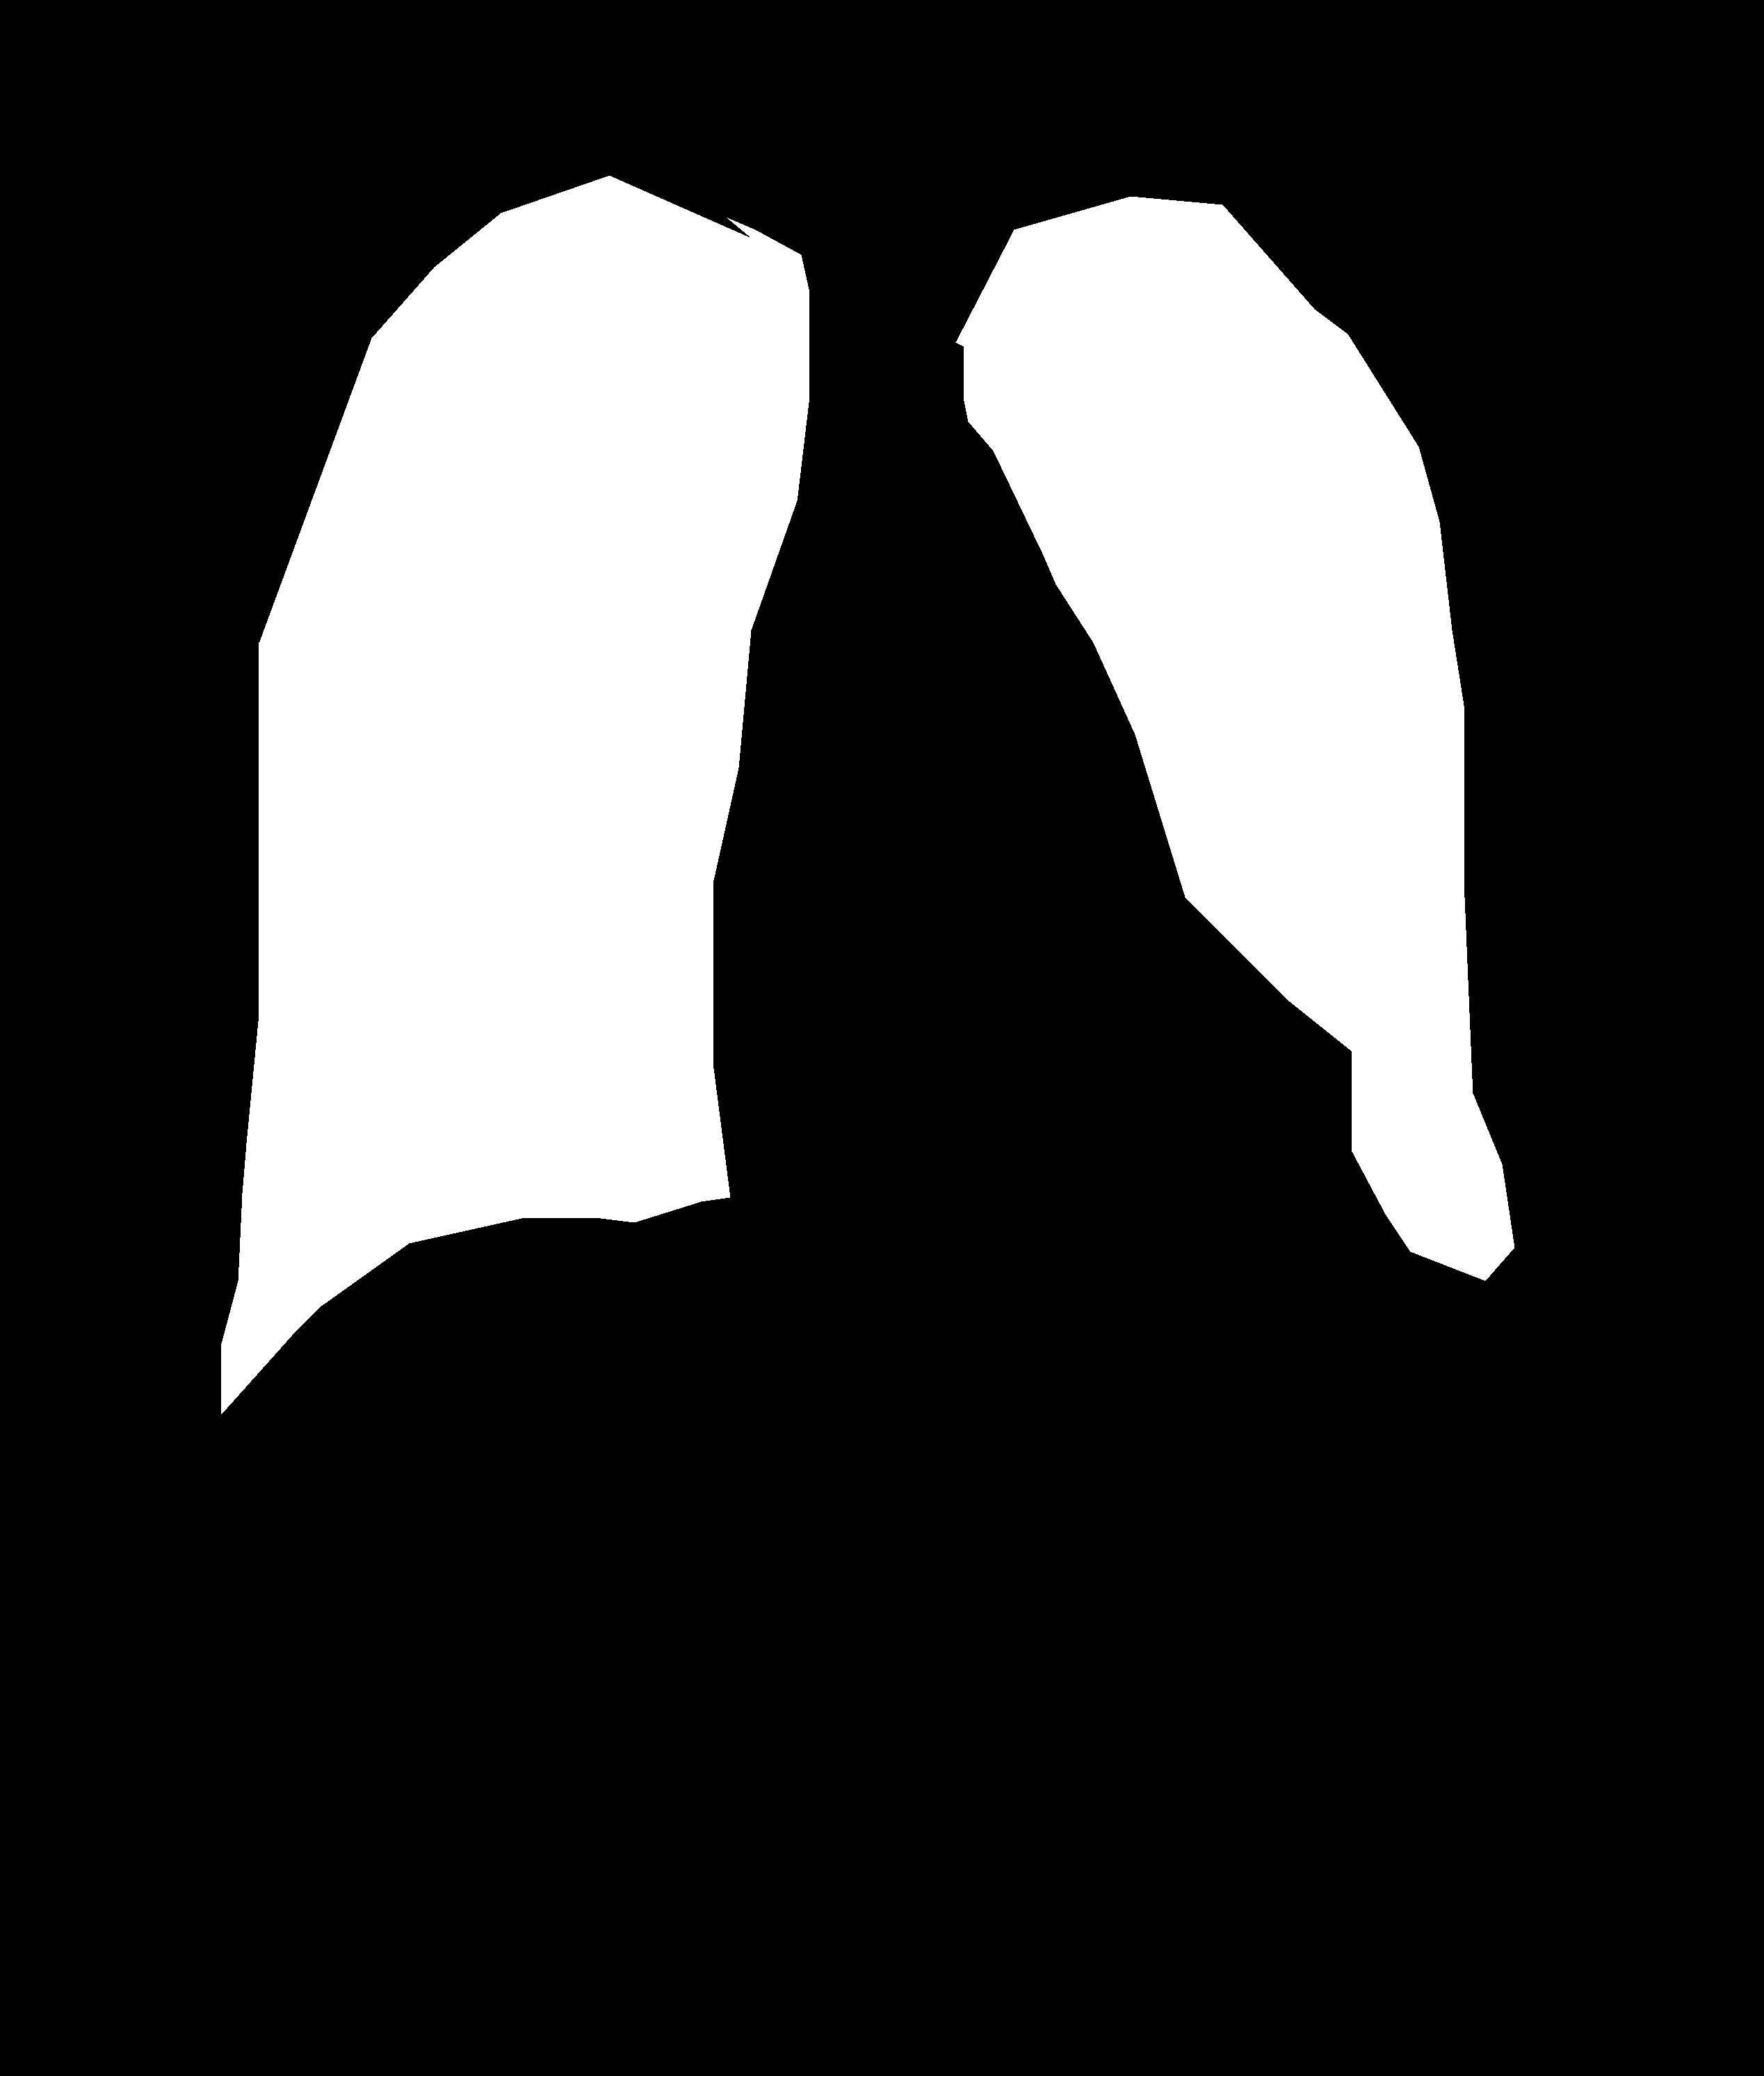heart: (693, 889, 1403, 1350)
left_lung: (220, 175, 808, 1406)
right_lung: (956, 196, 1524, 1302)
